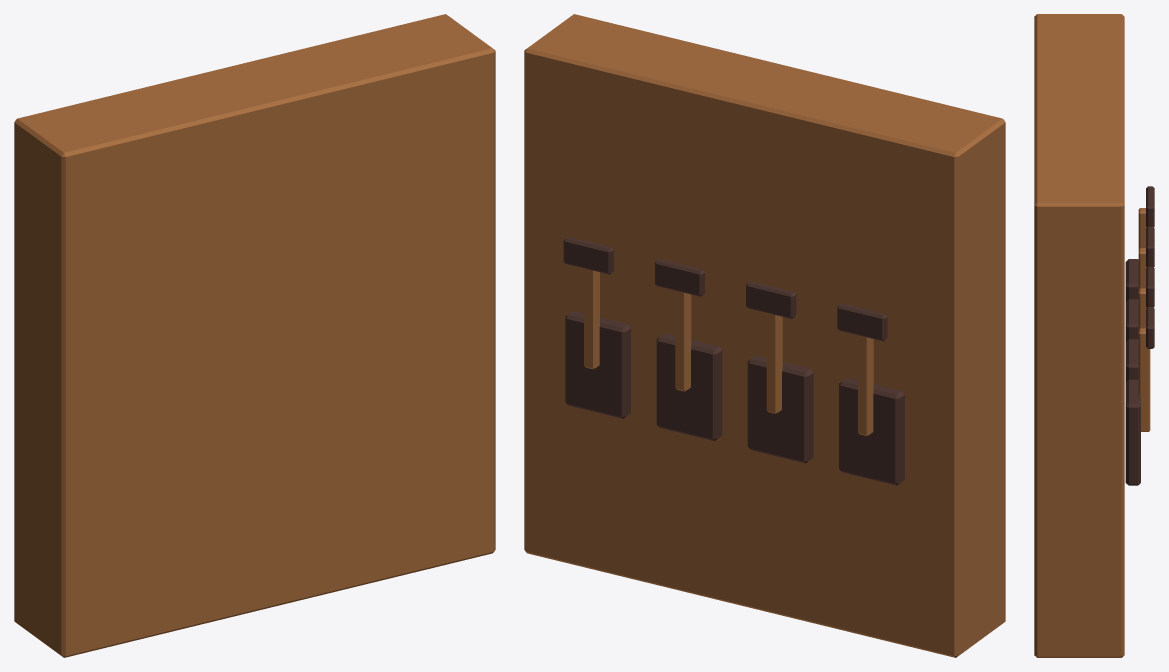
The model's file is leviers_fer.glb.
3 renders of one model, left to right at view 1: azimuth 30°, elevation 25°; view 2: azimuth 150°, elevation 25°; view 3: azimuth 270°, elevation 25°, orthographic. The views are drawn at different scales.
Visible parts, largest first — view 1: leviers_fer; view 2: leviers_fer; view 3: leviers_fer.
Part boxes in pixels (<box>): leviers_fer: <box>14,14,495,657</box>; leviers_fer: <box>524,14,1005,657</box>; leviers_fer: <box>1034,14,1154,657</box>.
Bounding box in the file's own units: 1.35 × 1.5 × 0.36.
1 material, 1 textured.
